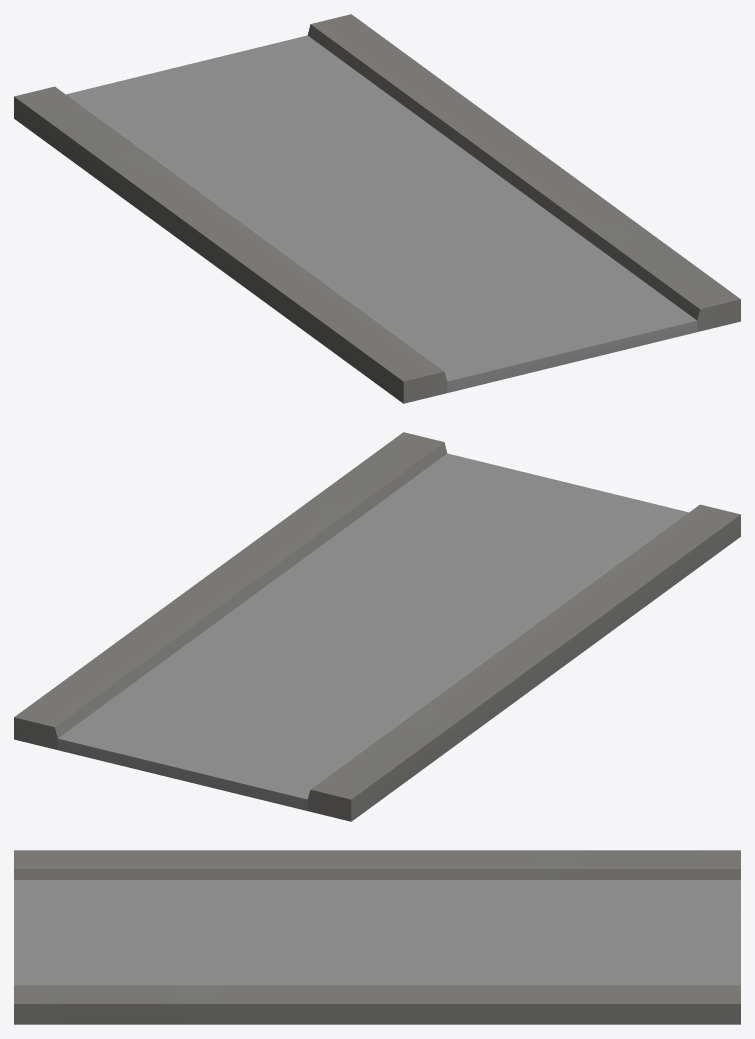
Rendered from path 1.fbx.
3 renders of one model, top to bottom at view 1: azimuth 30°, elevation 25°; view 2: azimuth 150°, elevation 25°; view 3: azimuth 270°, elevation 25°, orthographic. The views are drawn at different scales.
Parts seen in each view (by area): view 1: pavement; view 2: pavement; view 3: pavement.
Boxes of the visible parts, x1,y1,x2,y2 form: pavement: (14, 14, 740, 403); pavement: (14, 432, 740, 821); pavement: (14, 850, 740, 1024).
Bounding box in the file's own units: 100 × 6.28 × 200.
Materials: 1 (1 with a texture image).
